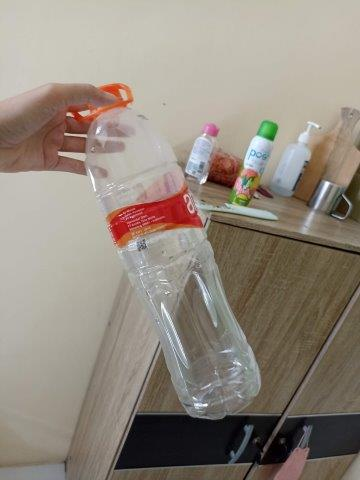botolplastik: (86, 85, 260, 422)
